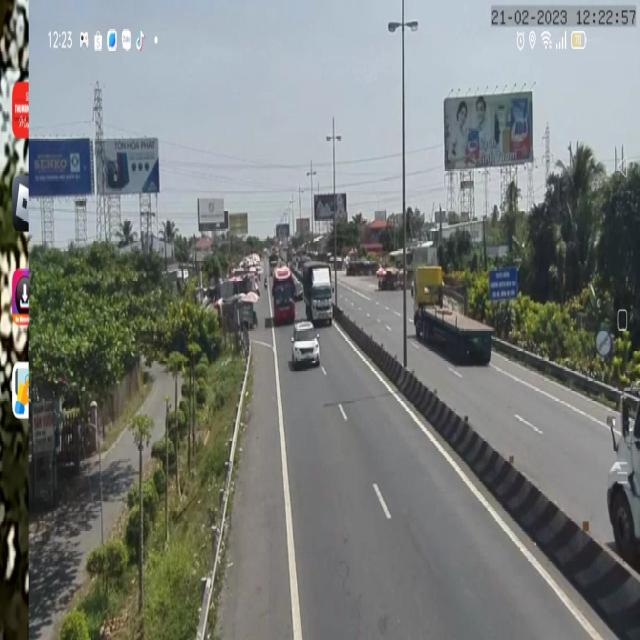bus: (272, 264, 296, 324)
car: (291, 319, 322, 373)
truck: (412, 264, 494, 370), (608, 372, 640, 568), (304, 259, 334, 327)
